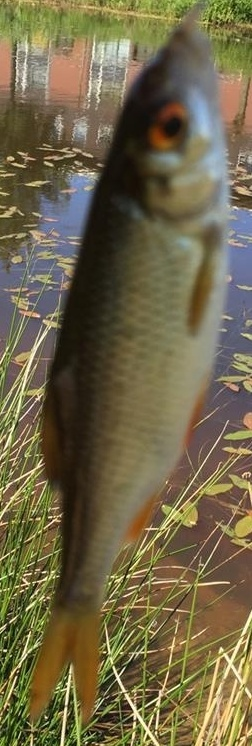Rutilus rutilus: (20, 20, 232, 726)
